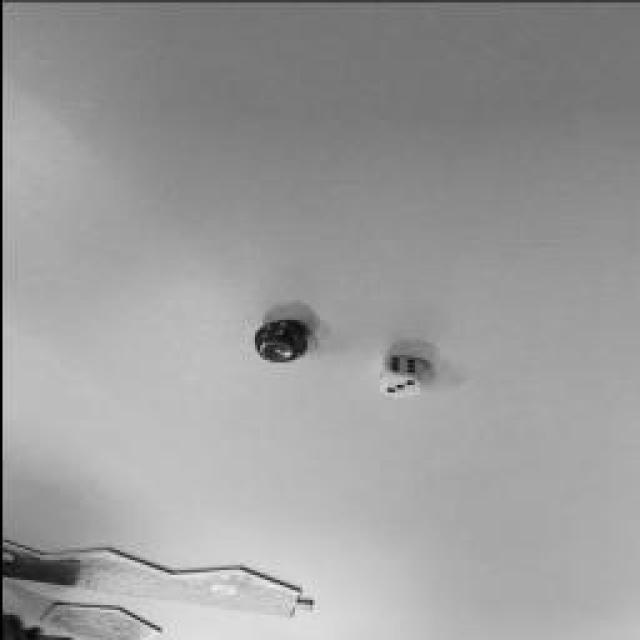dice_1: (255, 339, 295, 361)
dice_3: (378, 374, 418, 396)
